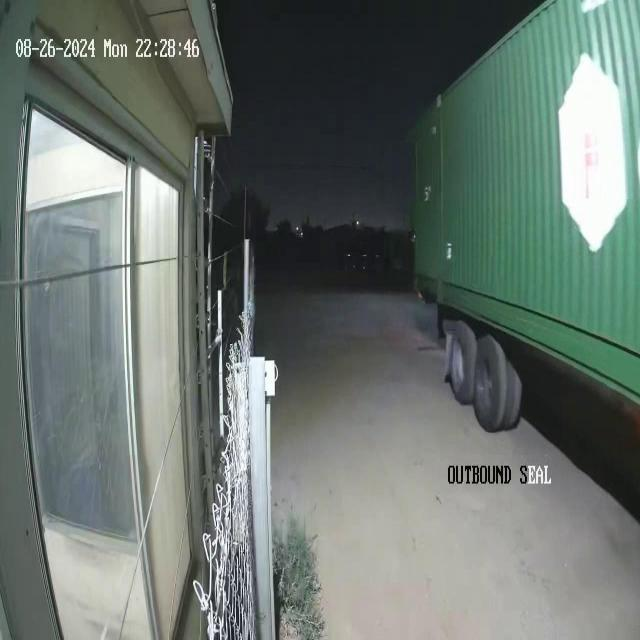TRUCK_IN: (407, 1, 639, 520)
